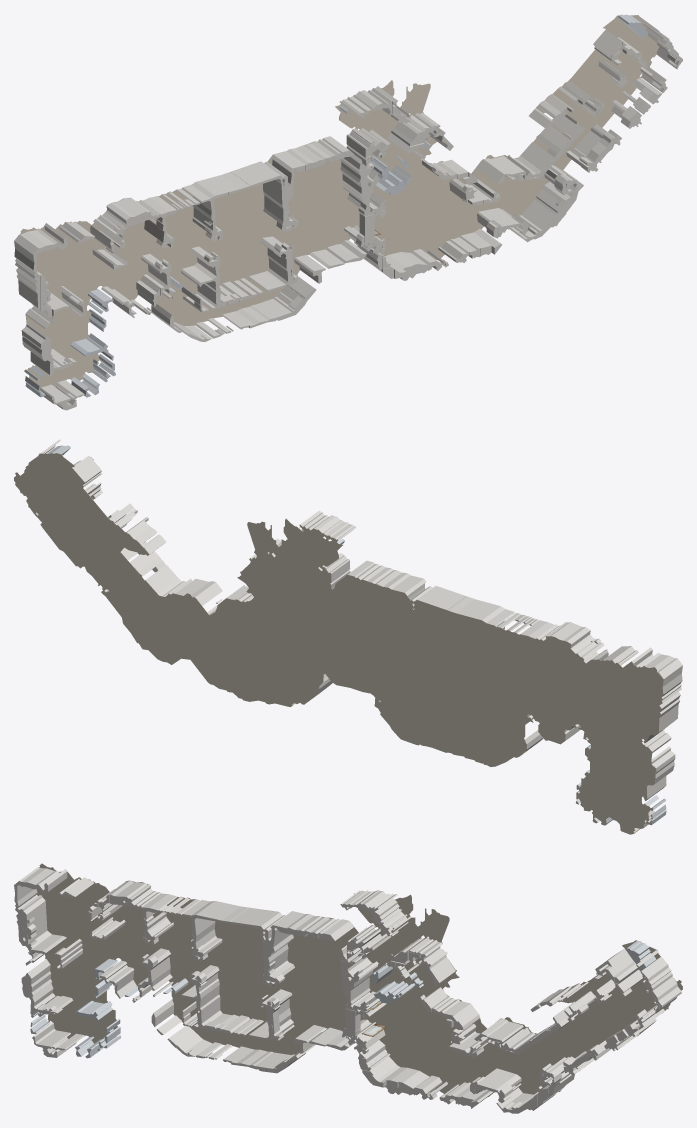
File: museum_architectural.glb
3 renders of one model, top to bottom at view 1: azimuth 30°, elevation 25°; view 2: azimuth 150°, elevation 25°; view 3: azimuth 330°, elevation 25°, orthographic.
Parts seen in each view (by area): view 1: walls, floor, lintels, exhibits; view 2: floor, walls, exhibits; view 3: walls, floor, lintels, exhibits.
Boxes of the visible parts, x1=… form: walls: x1=14, y1=15, x2=682, y2=410; floor: x1=14, y1=14, x2=659, y2=387; lintels: x1=42, y1=39, x2=679, y2=399; exhibits: x1=24, y1=14, x2=647, y2=397; floor: x1=14, y1=453, x2=663, y2=834; walls: x1=26, y1=439, x2=682, y2=832; exhibits: x1=48, y1=445, x2=666, y2=824; walls: x1=14, y1=867, x2=681, y2=1113; floor: x1=37, y1=863, x2=682, y2=1096; lintels: x1=27, y1=898, x2=658, y2=1109; exhibits: x1=30, y1=940, x2=656, y2=1058.
Size of the model in its own units: 59 by 20.96 by 3.37.
